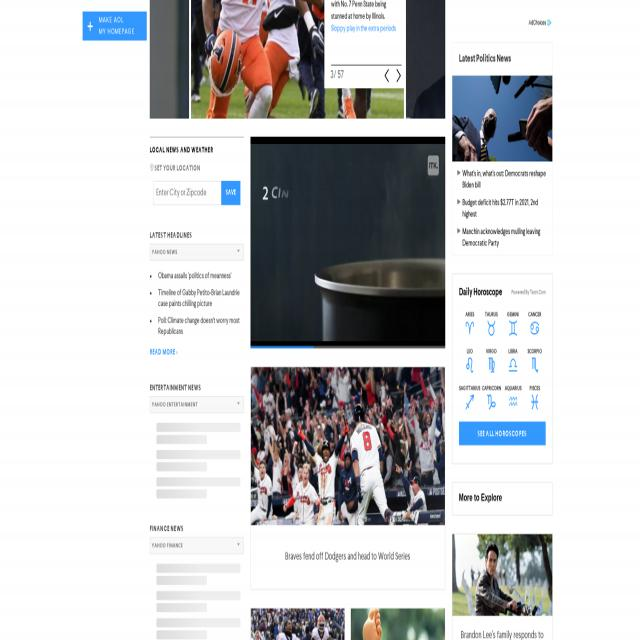button: (251, 367, 445, 588), (452, 533, 552, 640), (452, 76, 552, 161), (250, 607, 344, 640), (351, 608, 445, 640), (459, 422, 545, 446), (83, 11, 147, 42), (222, 181, 240, 205), (459, 321, 481, 336), (480, 321, 502, 336), (502, 321, 524, 336), (524, 321, 546, 336), (459, 358, 481, 373), (480, 358, 502, 373), (502, 358, 524, 373), (524, 358, 546, 373), (459, 395, 481, 410), (480, 395, 502, 410), (502, 395, 524, 410), (524, 395, 546, 410), (384, 69, 388, 82), (397, 69, 401, 82)
field: (153, 181, 221, 205), (150, 244, 243, 261), (150, 396, 243, 413), (150, 537, 243, 554)
